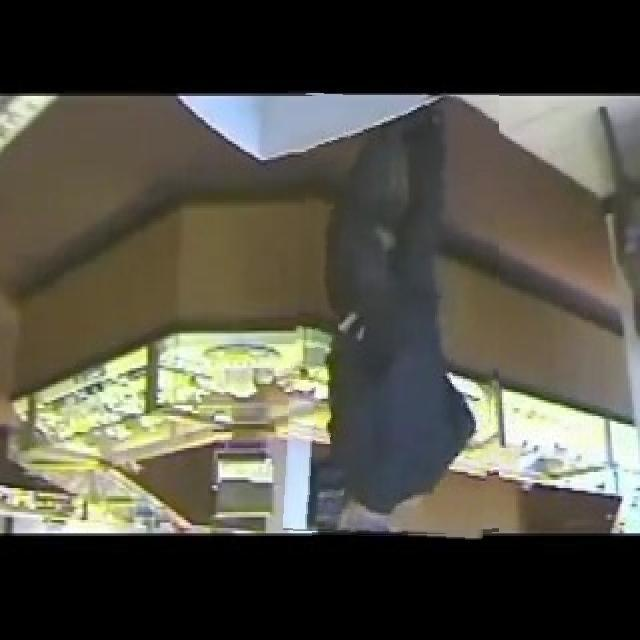Normal: (289, 95, 499, 537)
